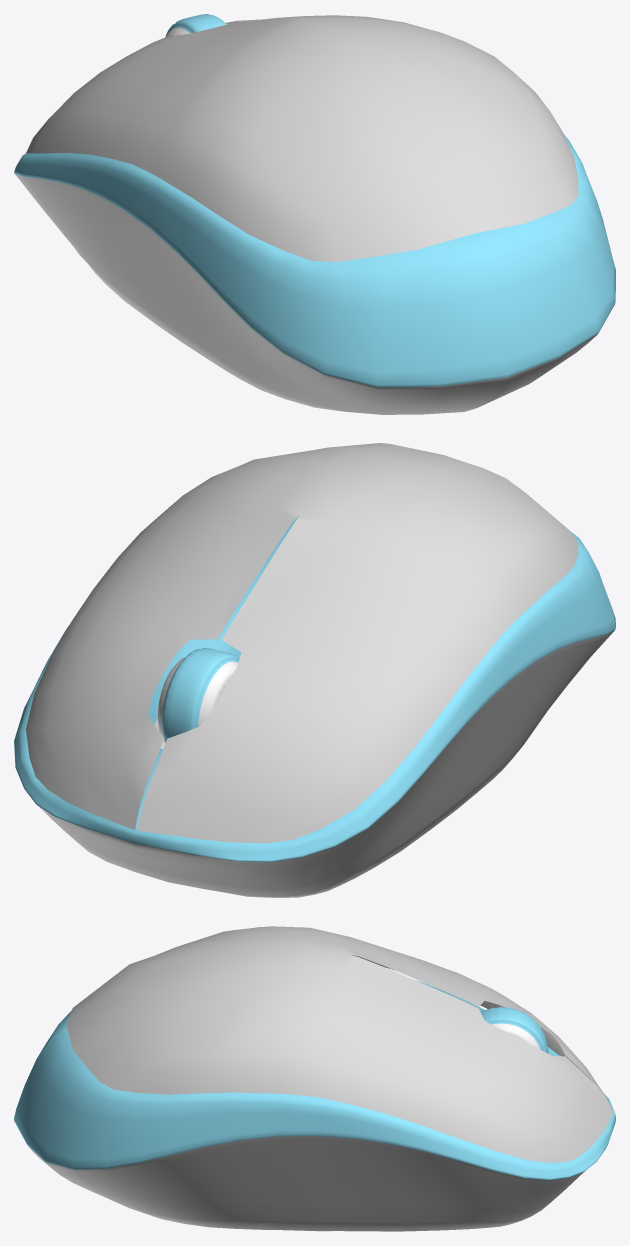
The model's file is mouse_machine_final.glb.
3 views of the same model, one above another, from view 1: azimuth 30°, elevation 25°; view 2: azimuth 150°, elevation 25°; view 3: azimuth 270°, elevation 25° (orthographic). The views are drawn at different scales.
Parts seen in each view (by area): view 1: Cube, 円柱; view 2: Cube, 円柱; view 3: Cube, 円柱.
Boxes of the visible parts, bbox=[...] form: Cube: bbox=[14, 15, 615, 414]; 円柱: bbox=[165, 14, 227, 37]; Cube: bbox=[14, 443, 615, 897]; 円柱: bbox=[157, 647, 239, 742]; Cube: bbox=[14, 926, 615, 1231]; 円柱: bbox=[480, 1007, 548, 1053].
Size of the model in its own units: 0.0618 by 0.044 by 0.1025.
